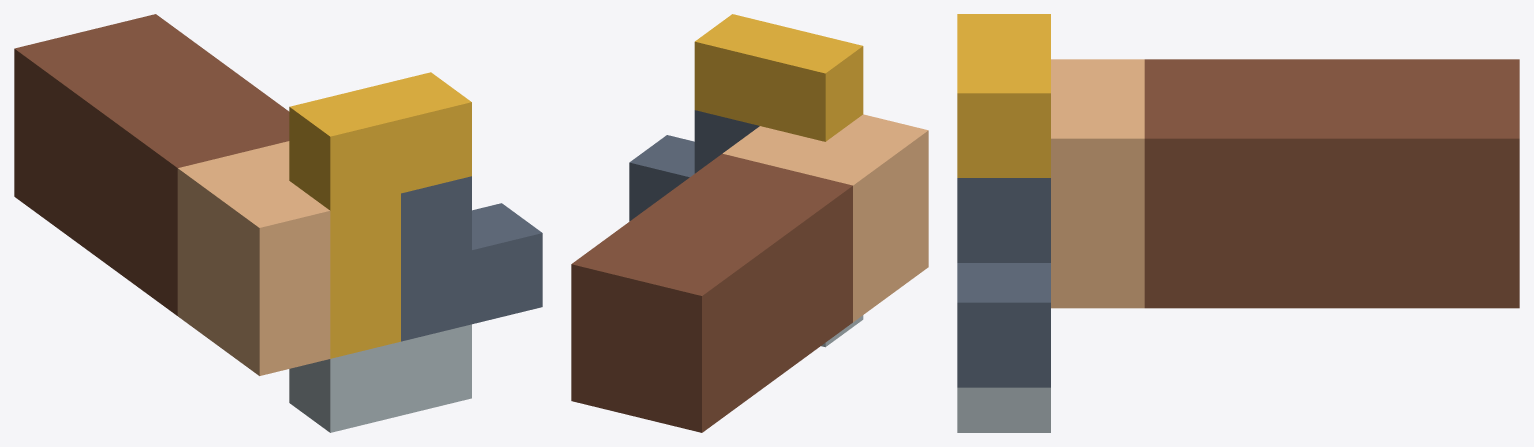
Rendered from rightarm.obj.
The picture shows the model from 3 angles, left to right: view 1: azimuth 30°, elevation 25°; view 2: azimuth 150°, elevation 25°; view 3: azimuth 270°, elevation 25°; orthographic projection. The views are drawn at different scales.
Size of the model in its own units: 4 by 4 by 6.
Materials: 1 (1 with a texture image).
